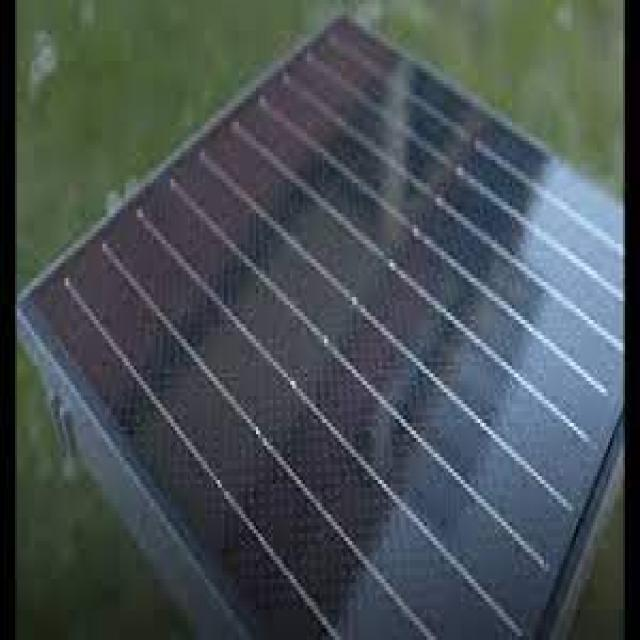no faulty: (19, 10, 622, 640)
